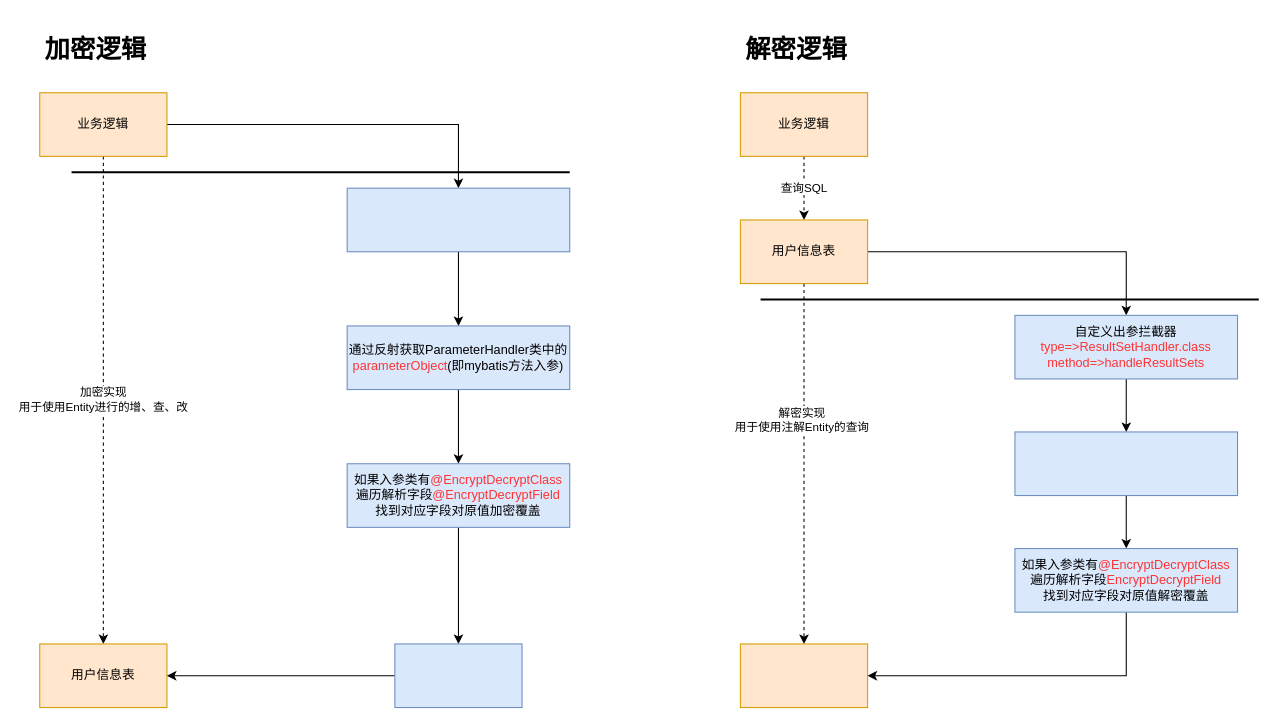
The diagram is 1277 pixels wide and 726 high, and some of its shapes have lost their labels. Each missing label, with the centre of its shape:
Mybatis其他逻辑执行: point (458, 675)
结果数据: point (803, 675)
自定义入参拦截器 type=>ParameterHandler.class method=>setParameters: point (458, 219)
调用nvocation.proceed() 获取mybatis结果集 进行返回结果处理(list<ele> or ele): point (1126, 463)
